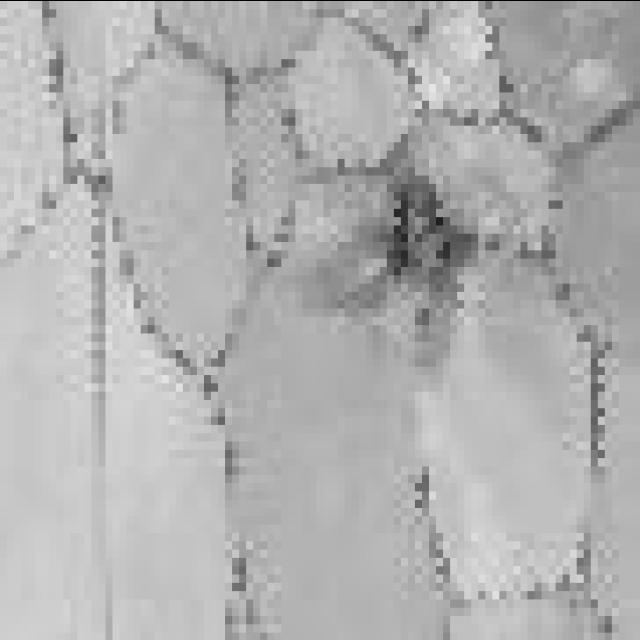good_void: (315, 170, 495, 337)
